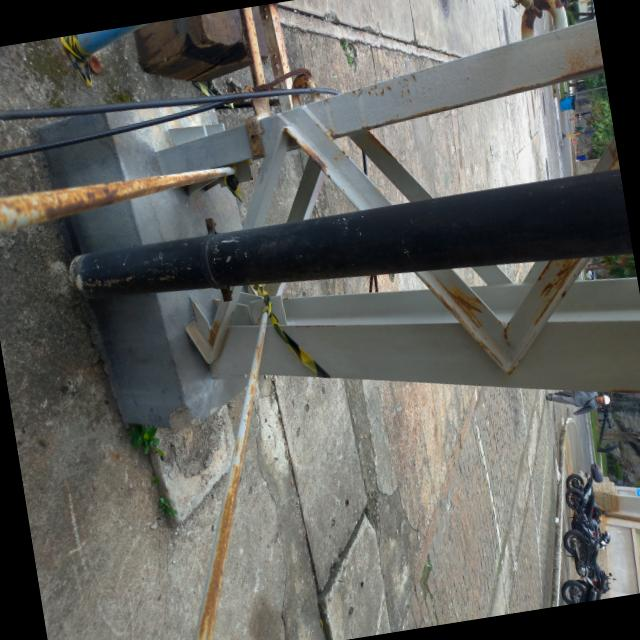gas: (63, 157, 634, 346)
